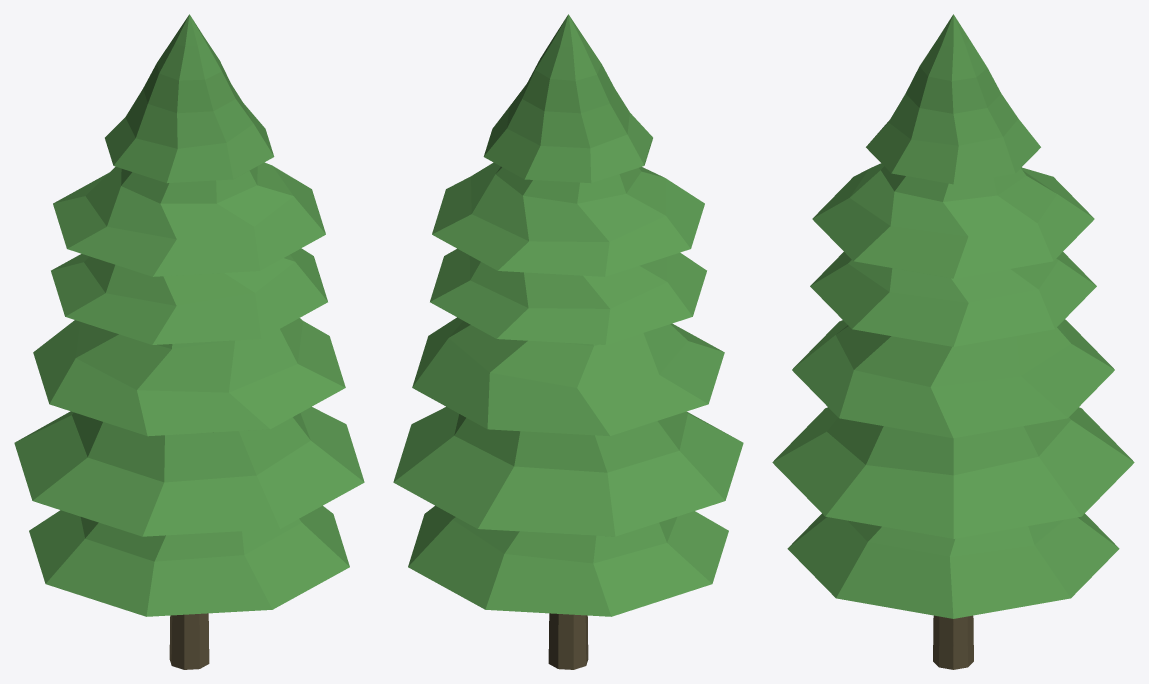
The model's file is normal_pine_tree_natural_blender.fbx.
3 renders of one model, left to right at view 1: azimuth 30°, elevation 25°; view 2: azimuth 150°, elevation 25°; view 3: azimuth 270°, elevation 25°, orthographic.
Visible parts, largest first — view 1: normal_pine_tree_natural_object; view 2: normal_pine_tree_natural_object; view 3: normal_pine_tree_natural_object.
Boxes of the visible parts, x1,y1,x2,y2 form: normal_pine_tree_natural_object: [14, 14, 364, 669]; normal_pine_tree_natural_object: [393, 14, 743, 669]; normal_pine_tree_natural_object: [772, 14, 1134, 669].
Bounding box in the file's own units: 530 × 1044 × 530.
Materials: 1 (1 with a texture image).
